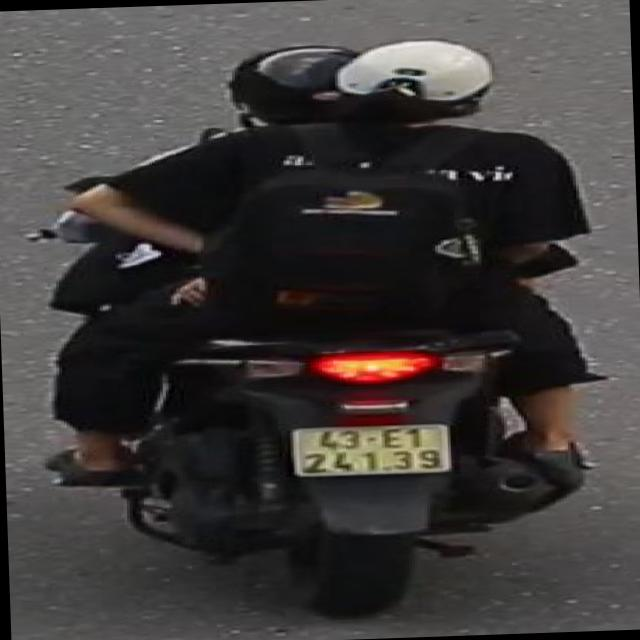LP: (281, 416, 457, 482)
helmet: (332, 32, 504, 134)
